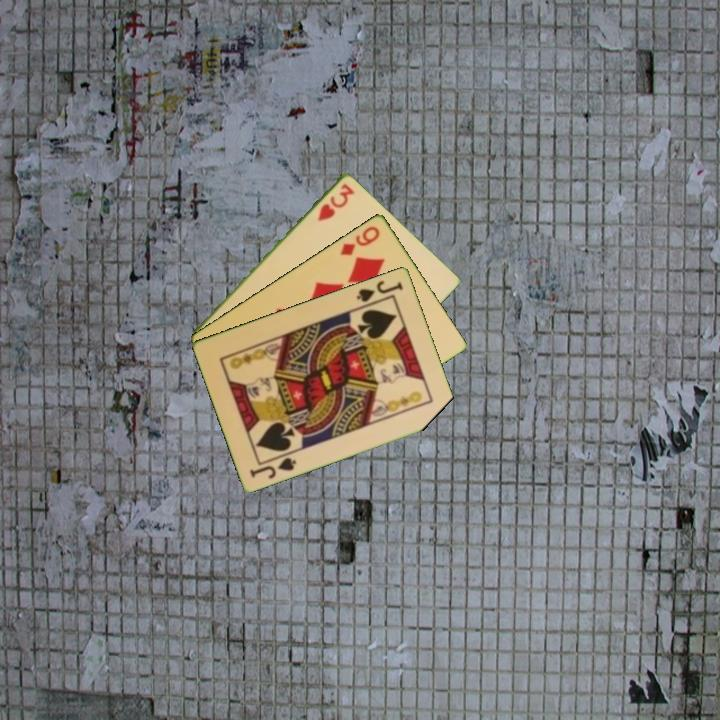3h: (314, 179, 358, 224)
9d: (336, 222, 383, 258)
Js: (246, 449, 299, 481), (353, 277, 406, 305)
